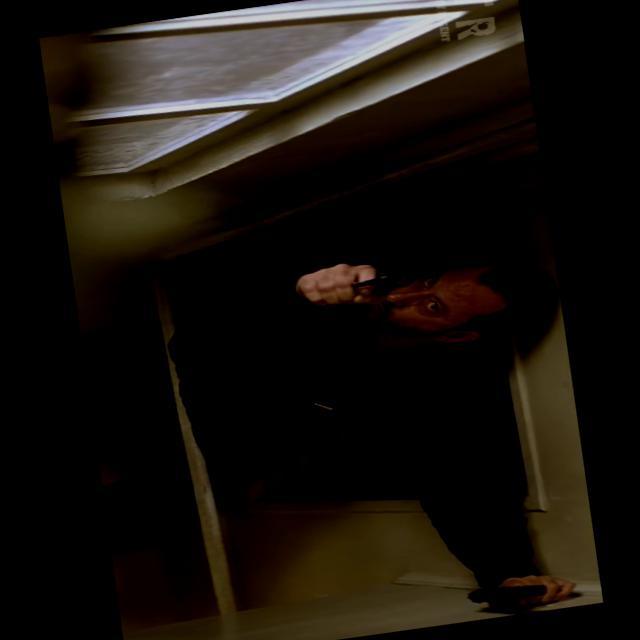handgun: (304, 244, 438, 324)
